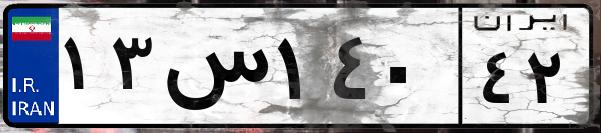0: (385, 28, 445, 110)
1: (270, 28, 330, 110), (57, 26, 110, 100)
2: (525, 38, 570, 115)
3: (110, 28, 158, 98)
4: (330, 28, 385, 110), (475, 38, 525, 113)
س: (158, 20, 270, 120)
